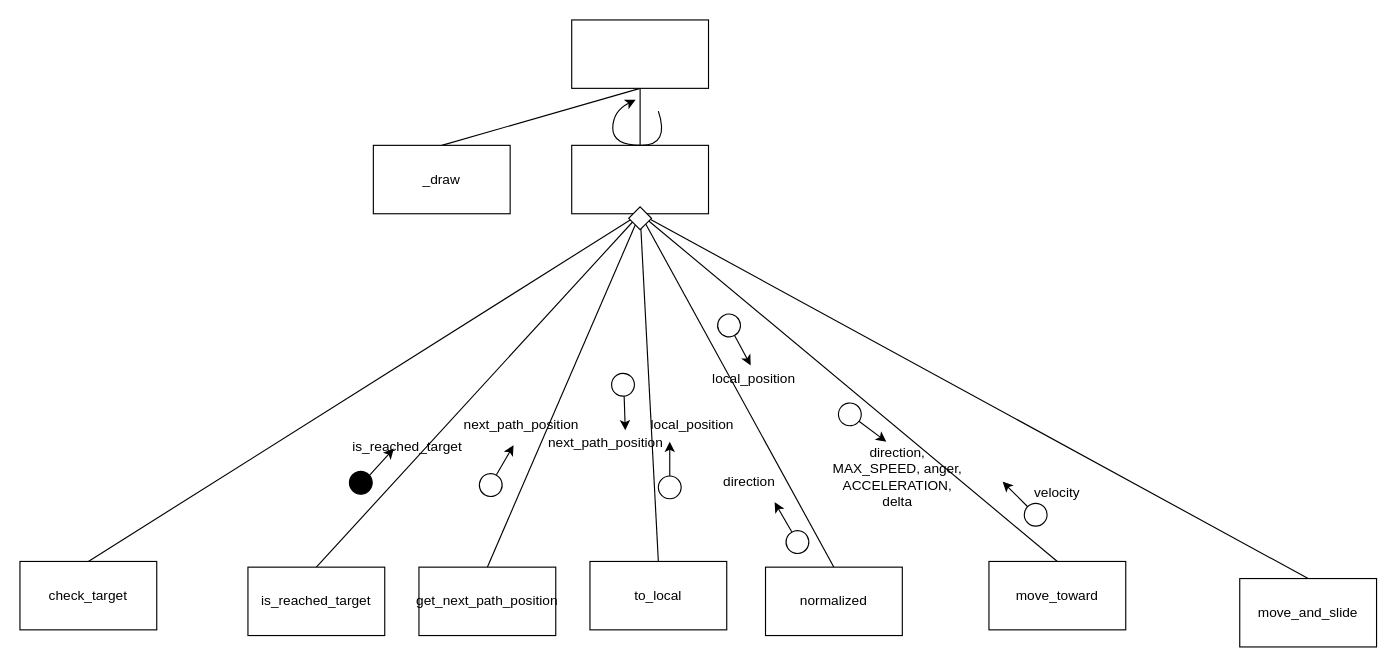
Some shapes in this 1397 by 667 pixel diagram are drawn without their labels. The centre of each missing label's shape, as x and y in pixels:
_physics_process: the point at 640,179
enemy: the point at 640,53
